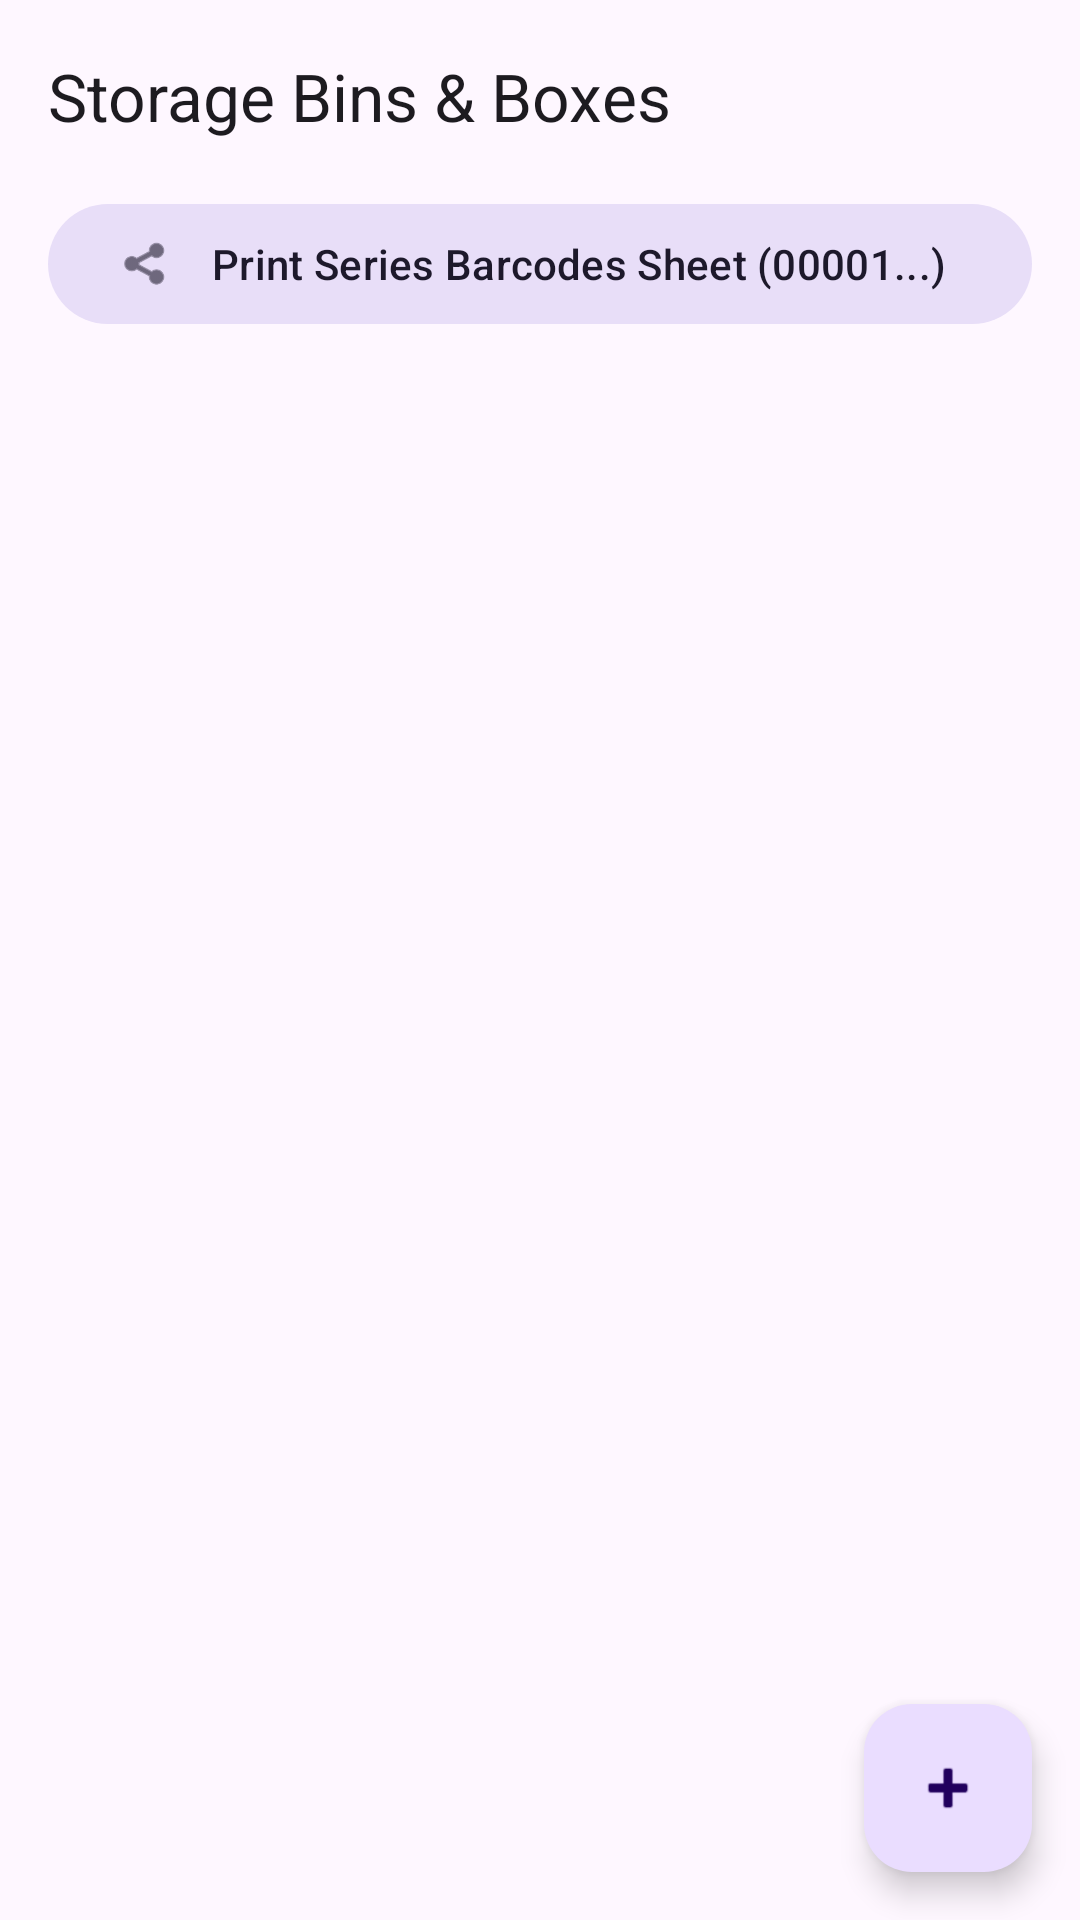

Icons on this 1080w x 1920h Android screen, each with its box as (x1, y1, x2, y2):
Add Storage Bin: (864, 1704, 1032, 1872)
